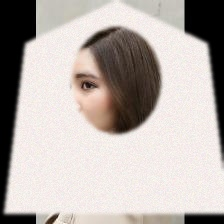Mukena: (4, 0, 224, 214)
